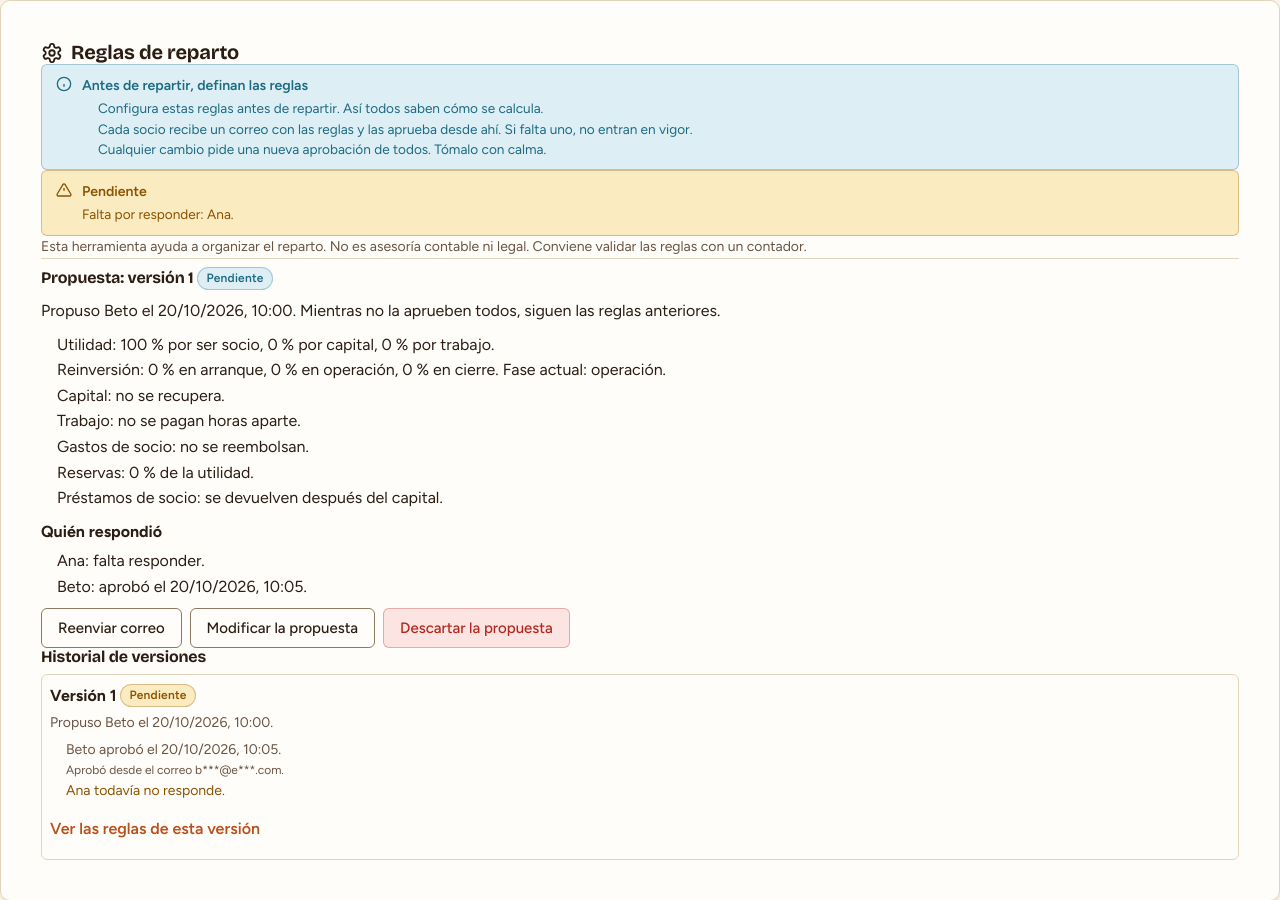
Test: RulesPanel: la propuesta abierta › "Reenviar correo" reenvía y cuenta a quién llegó
Click the button with test id "rules-resend". click: x=111, y=628
box: [41,608,182,648]
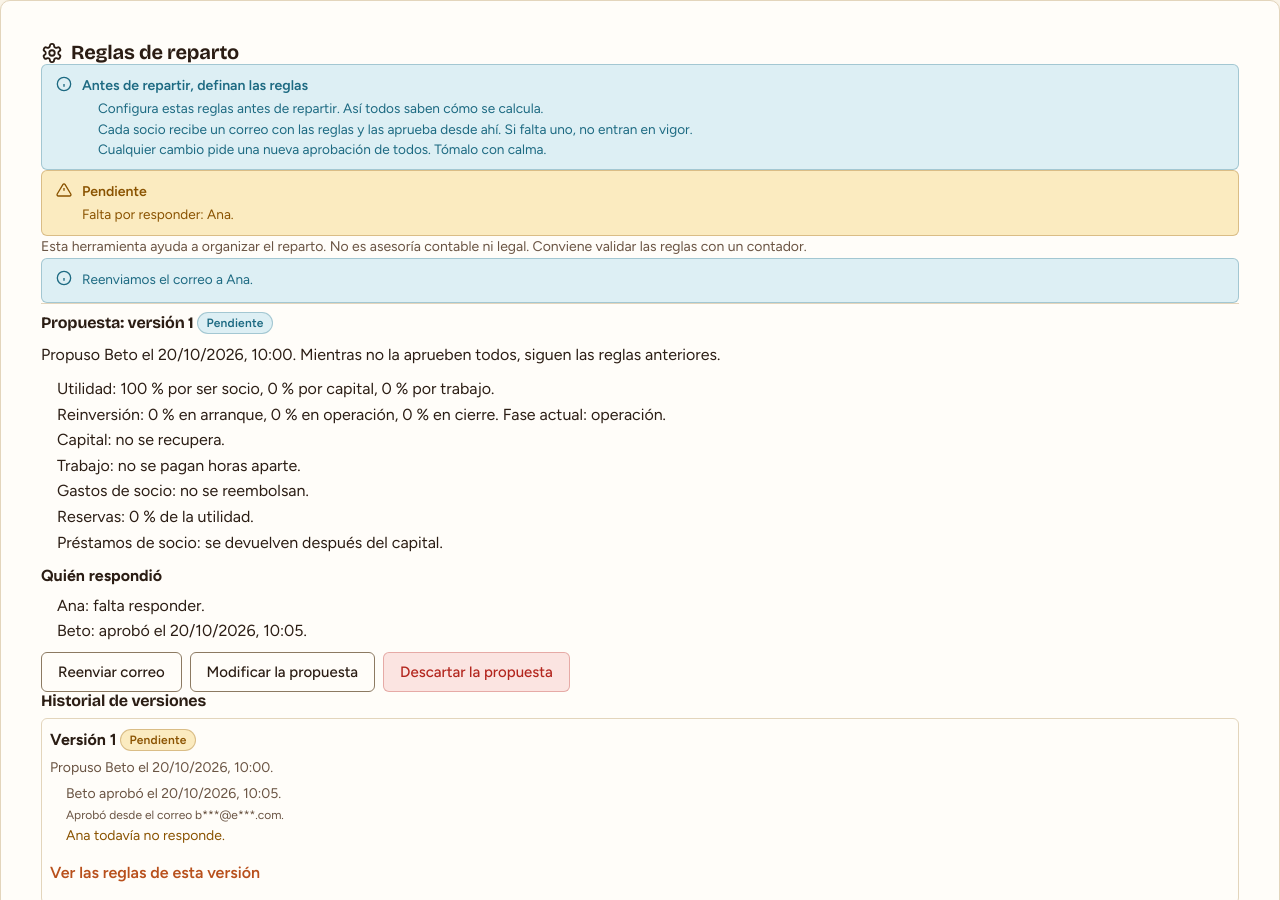
Expected: the element with test id "rules-resend-notice" reads "Reenviamos el correo a Ana.", [82,271,253,287]
